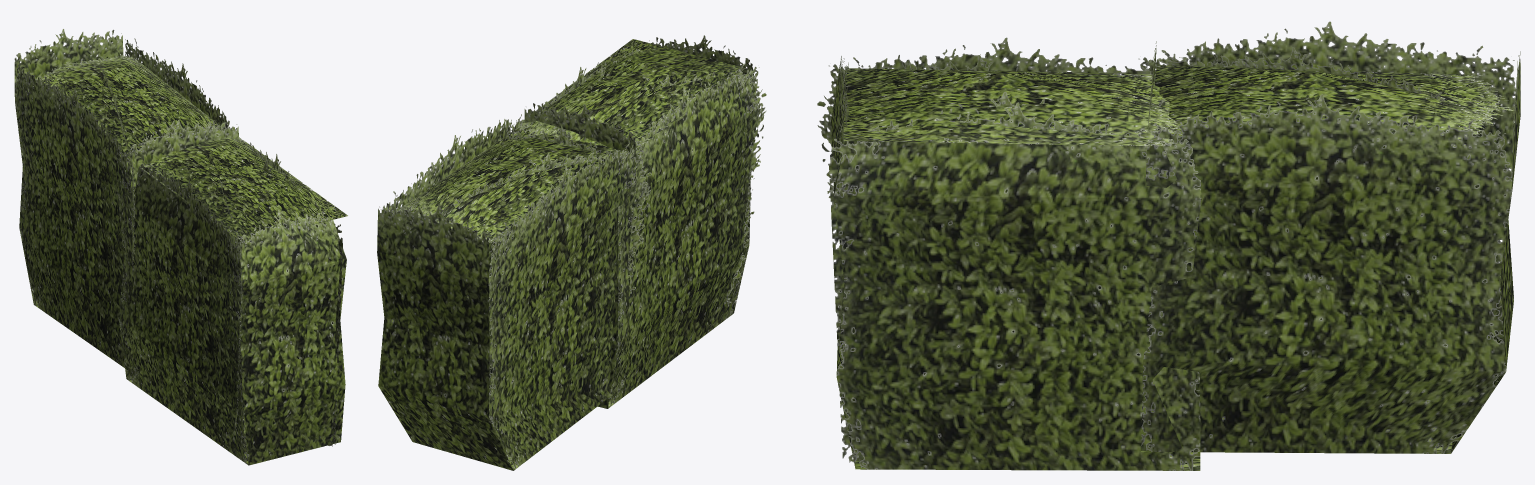
The model's file is boxwood 1.glb.
The picture shows the model from 3 angles, left to right: view 1: azimuth 30°, elevation 25°; view 2: azimuth 150°, elevation 25°; view 3: azimuth 270°, elevation 25°; orthographic projection. The views are drawn at different scales.
Visible parts, largest first — view 1: boxwood3_Leaves_0; view 2: boxwood3_Leaves_0; view 3: boxwood3_Leaves_0.
Boxes of the visible parts, bbox=[...] form: boxwood3_Leaves_0: bbox=[14, 29, 347, 465]; boxwood3_Leaves_0: bbox=[377, 35, 766, 470]; boxwood3_Leaves_0: bbox=[817, 21, 1520, 470].
Bounding box in the file's own units: 1.35 × 2.74 × 4.58.
Materials: 1 (1 with a texture image).
